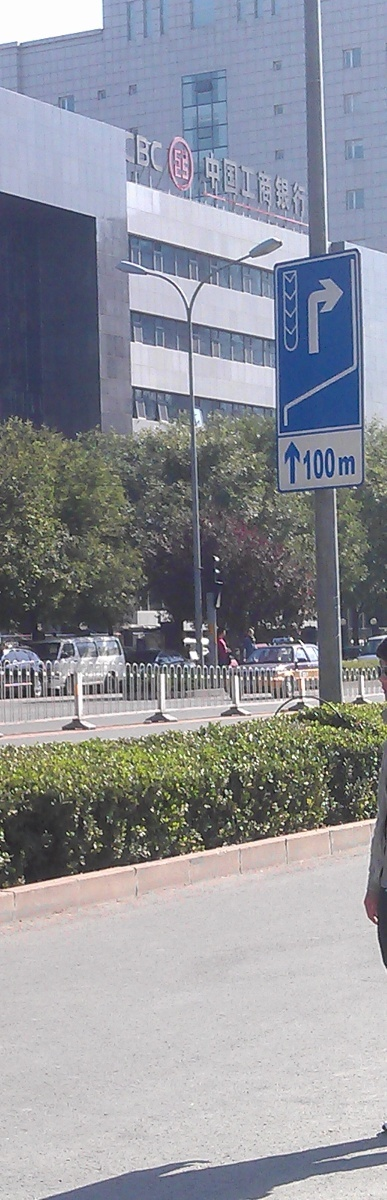text: (209, 148, 224, 221), (225, 148, 240, 221), (241, 148, 256, 221), (257, 148, 272, 221), (273, 148, 288, 221), (289, 148, 304, 221), (129, 129, 144, 176), (145, 129, 160, 176), (305, 446, 320, 480), (321, 446, 336, 480), (337, 446, 352, 480), (204, 148, 208, 221), (305, 148, 308, 221), (161, 129, 165, 176), (353, 446, 358, 480), (301, 446, 304, 480), (126, 129, 128, 176)
